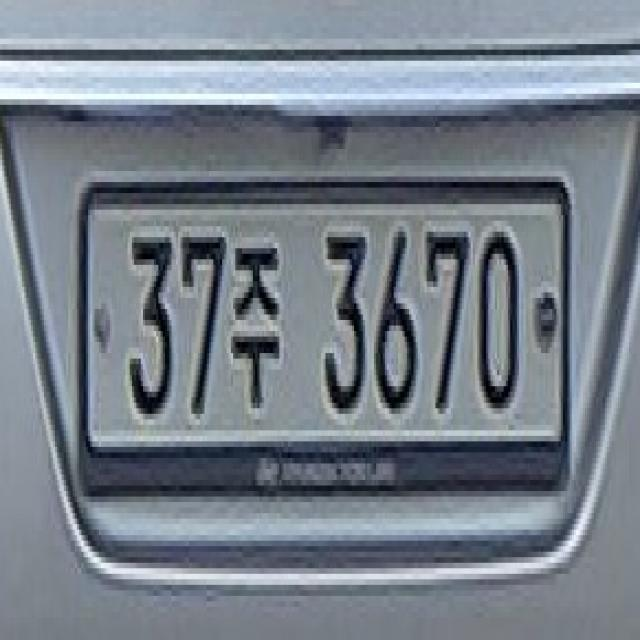0: (473, 221, 521, 419)
3: (319, 226, 369, 414), (130, 226, 174, 419)
6: (372, 232, 420, 414)
7: (420, 221, 471, 419), (178, 232, 227, 414)
ju: (226, 243, 284, 414)
license_plate: (79, 182, 572, 464)
